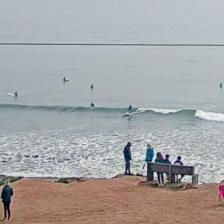surfer: (128, 105, 132, 113), (62, 76, 68, 81), (90, 84, 95, 89), (90, 102, 94, 107), (14, 91, 17, 97), (220, 82, 223, 88)
